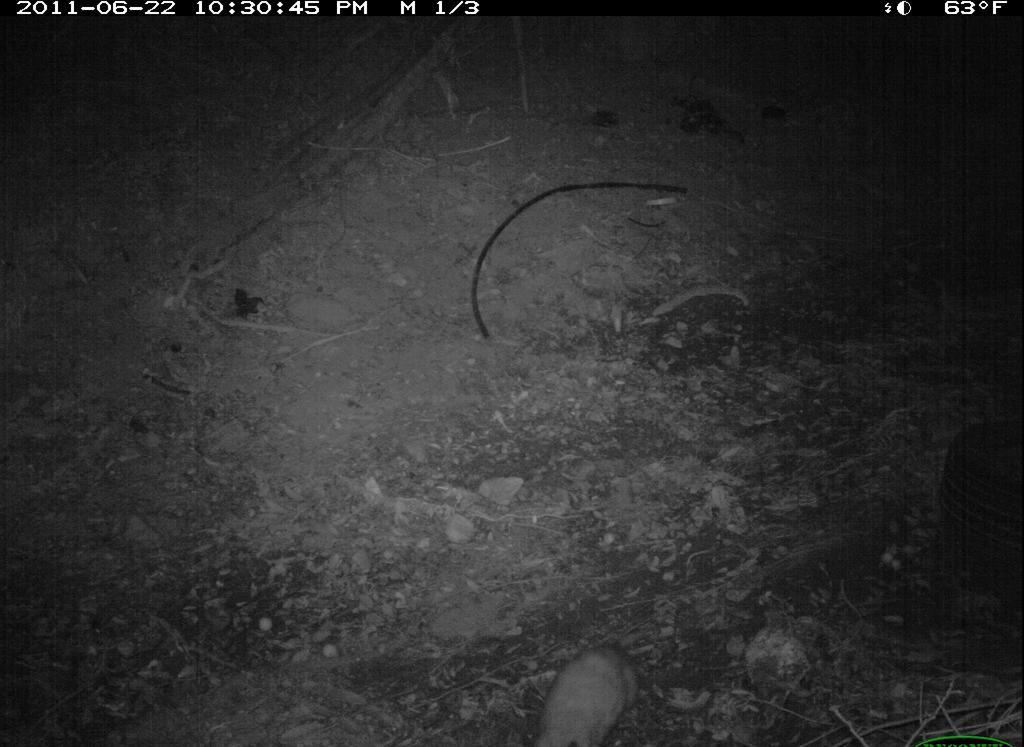opossum: (532, 641, 646, 743)
